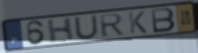6: (25, 19, 46, 46)
B: (149, 7, 177, 35)
H: (46, 16, 75, 45)
K: (127, 10, 149, 35)
R: (98, 12, 126, 39)
U: (73, 14, 101, 41)
